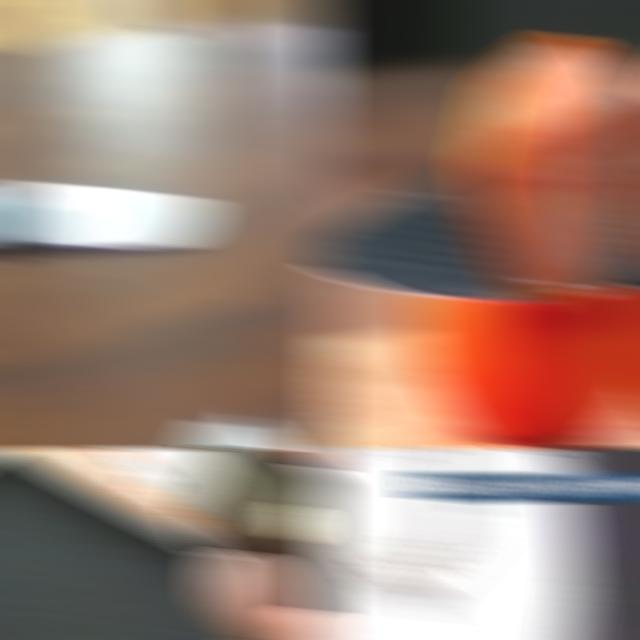Knife: (108, 447, 338, 612), (0, 180, 212, 250)
Knife_Handle: (314, 0, 640, 299)
